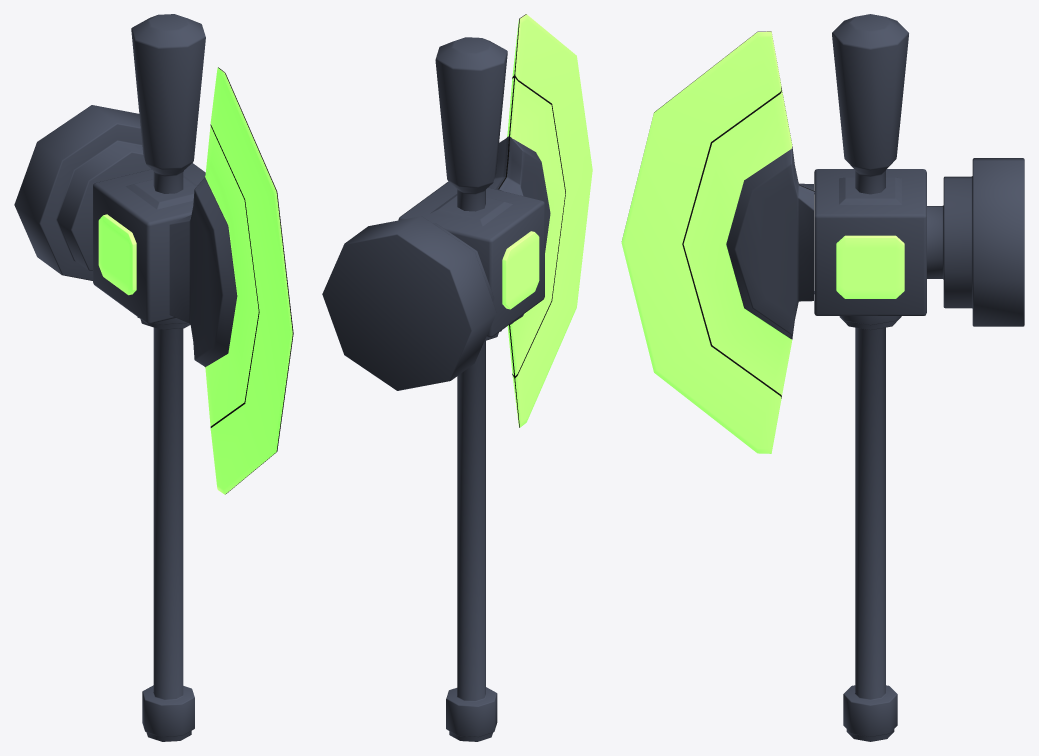
The model's file is CyberAxe.fbx.
3 renders of one model, left to right at view 1: azimuth 30°, elevation 25°; view 2: azimuth 150°, elevation 25°; view 3: azimuth 270°, elevation 25°, orthographic. The views are drawn at different scales.
Visible parts, largest first — view 1: Cube; view 2: Cube; view 3: Cube.
Part boxes in pixels (box(x1,y1,x2,y2)): Cube: box(14, 14, 293, 741); Cube: box(322, 14, 592, 741); Cube: box(621, 14, 1024, 741).
Bounding box in the file's own units: 99.54 × 435 × 224.
